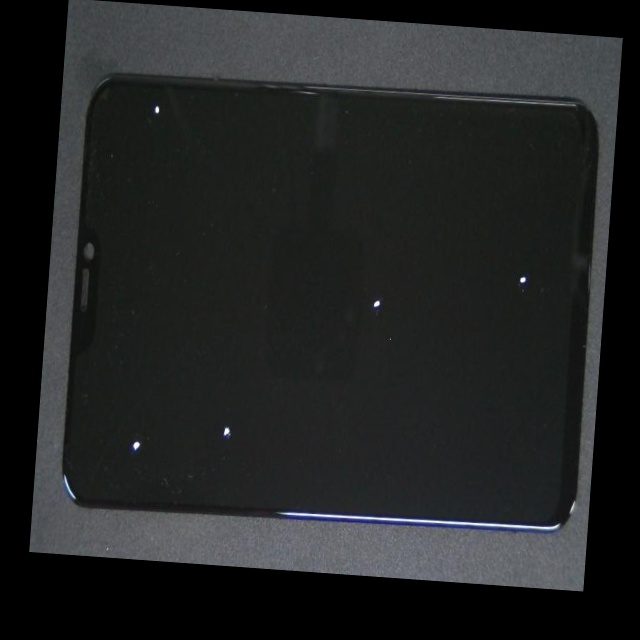stain: (200, 127, 541, 467), (274, 103, 617, 409), (117, 225, 321, 571), (73, 232, 184, 561), (127, 49, 221, 145)
